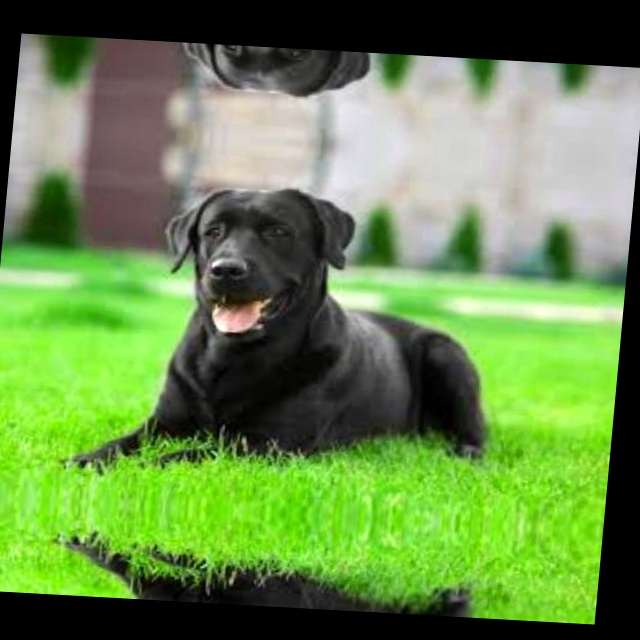dog: (49, 166, 531, 480), (82, 37, 543, 120), (36, 547, 496, 619)
